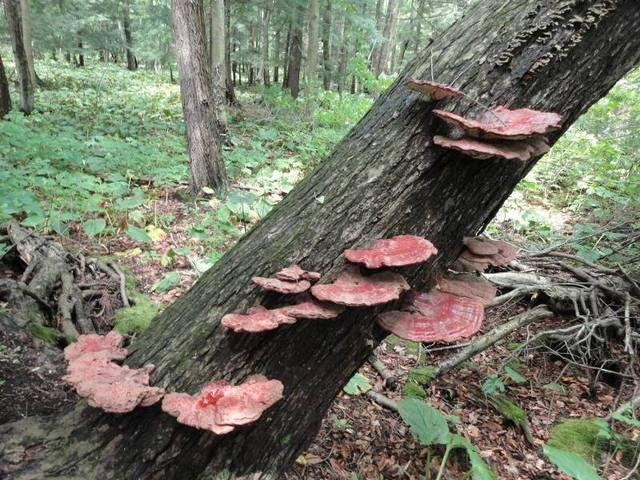poisonous_mushroom: (206, 208, 614, 354), (44, 317, 292, 437), (406, 70, 547, 164)
